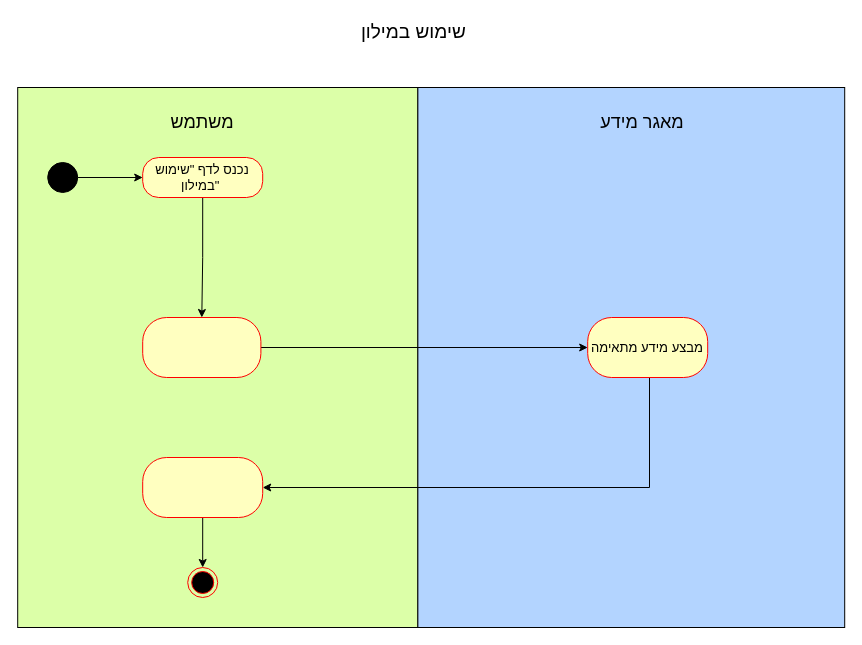
This 862x645 diagram has some shape labels left out. The shapes that lost their labels are listed below. From the top down, each one's centre as x and y in pixels, then its label:
point (201, 347): מכניס בשדה חיפוש את המילה שמשתמש מחפש
point (202, 487): מציג מידע למשתמש
